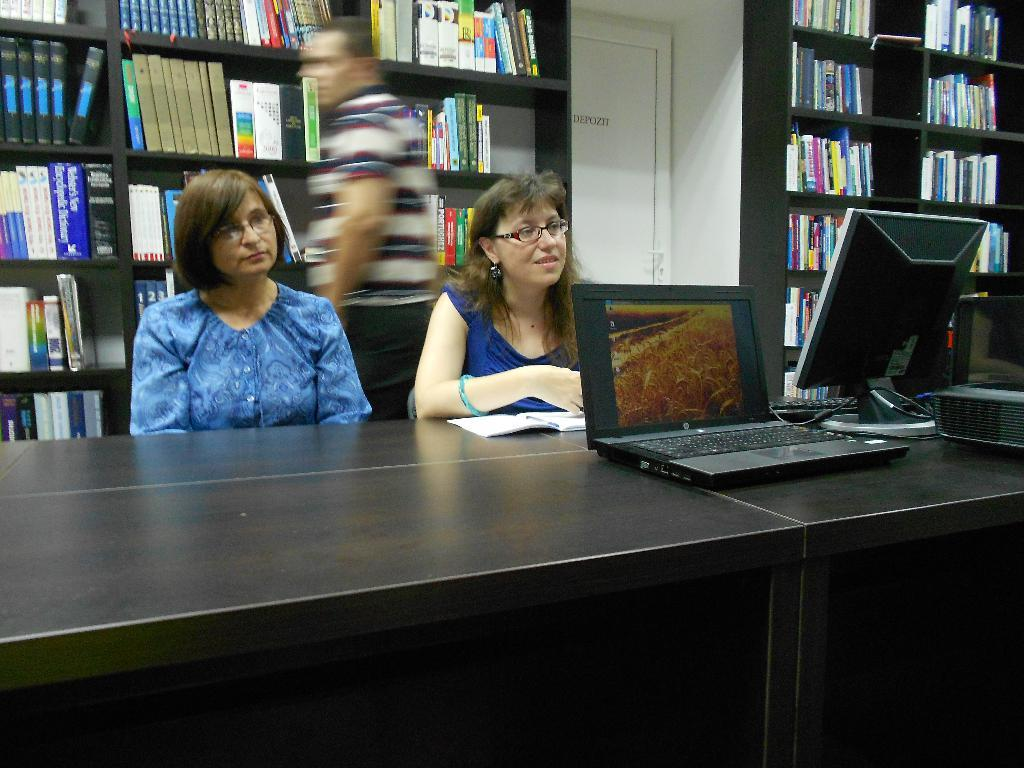Computer-monitor: (791, 204, 989, 434)
Laptop: (569, 281, 909, 490)
